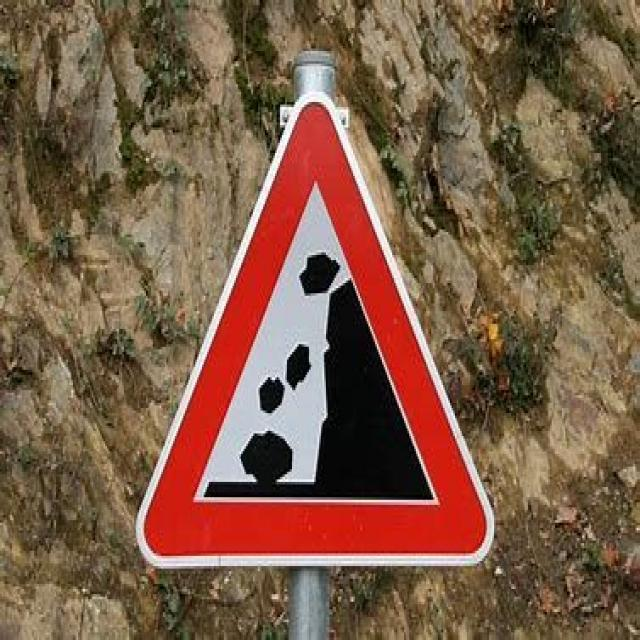FALLING_ROCKS: (132, 89, 496, 564)
